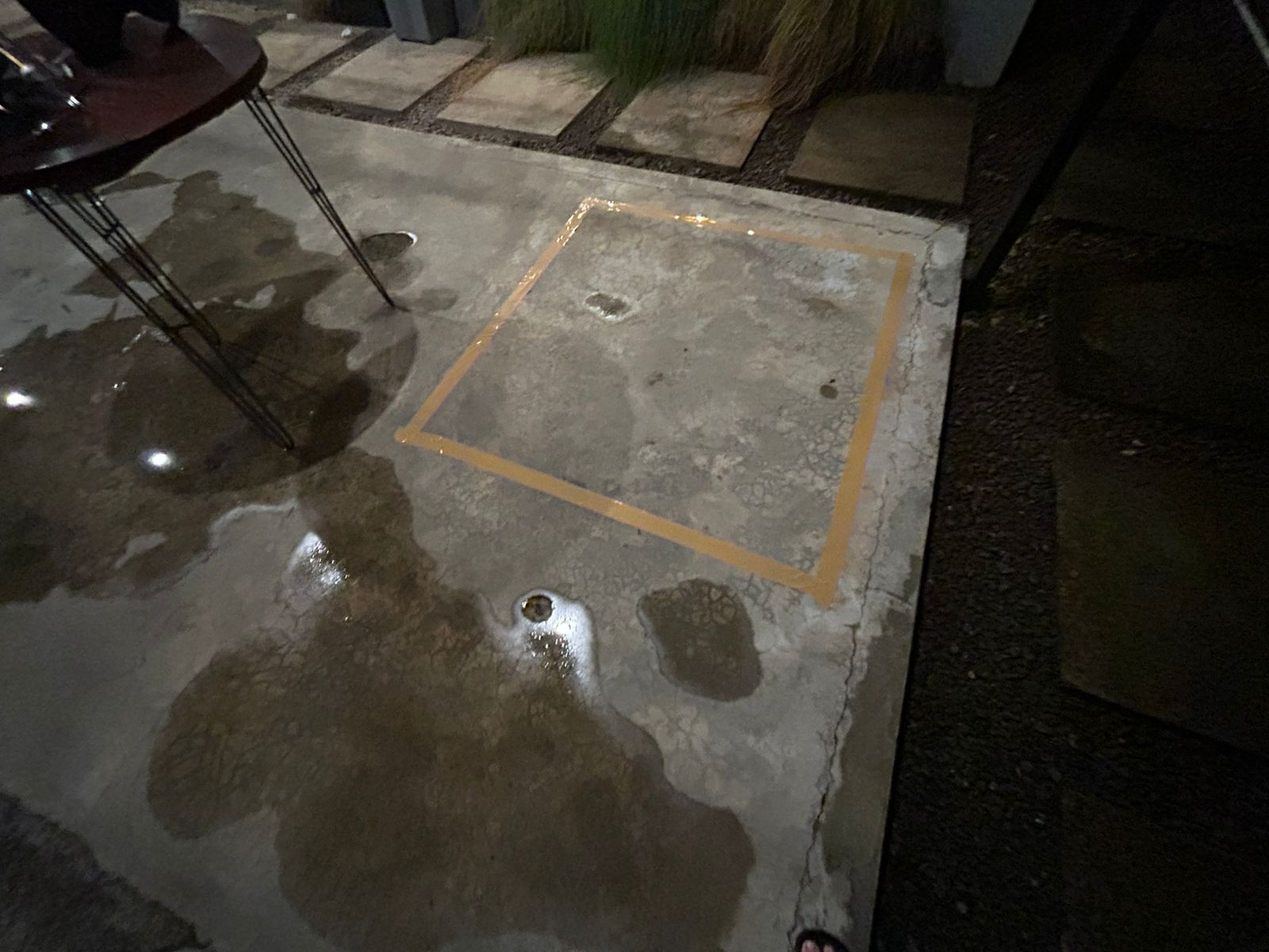floor marking: (396, 197, 915, 605)
